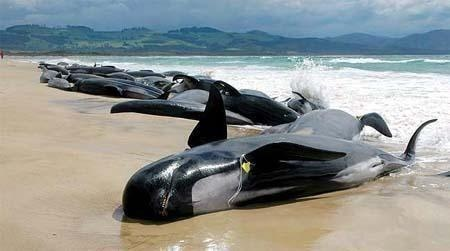fish: (120, 85, 439, 223)
